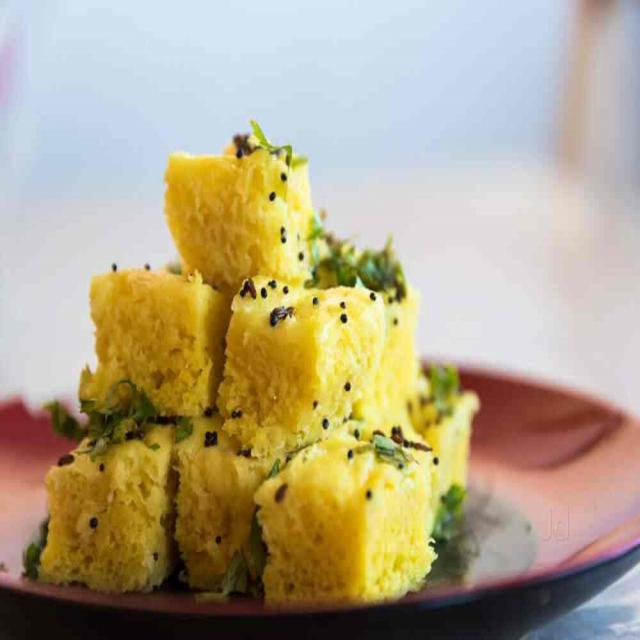dhokla: (55, 158, 483, 623)
